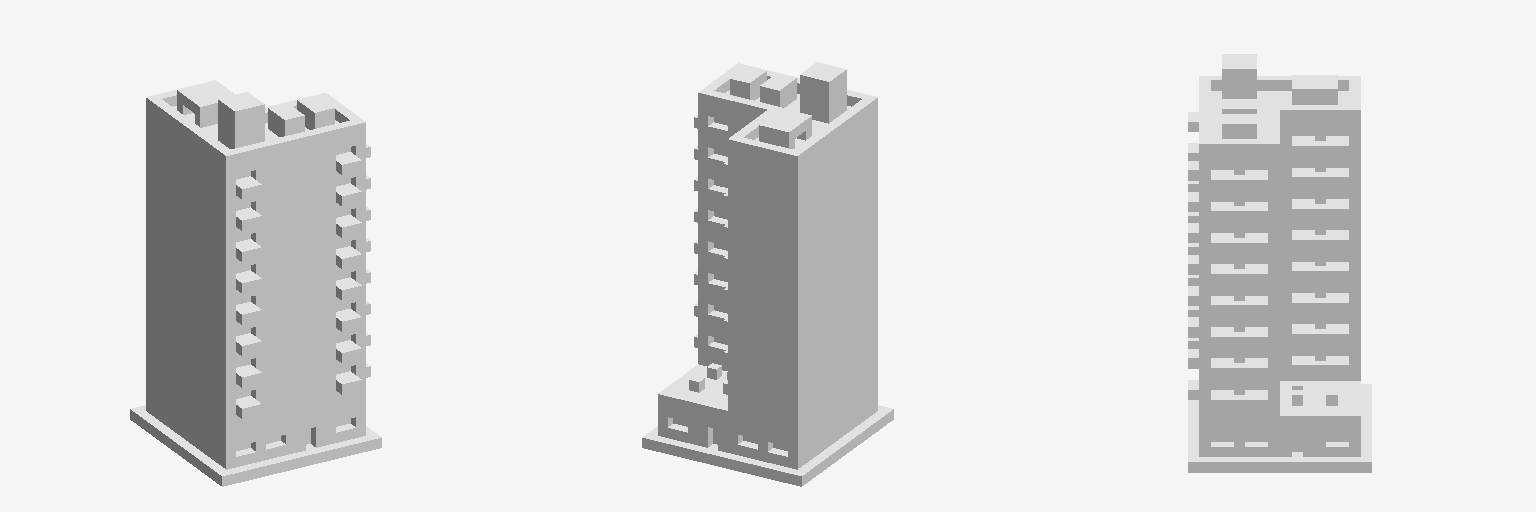
File: House12.obj
3 views of the same model, side by side, from view 1: azimuth 30°, elevation 25°; view 2: azimuth 150°, elevation 25°; view 3: azimuth 270°, elevation 25° (orthographic).
Size of the model in its own units: 16 by 34 by 16.